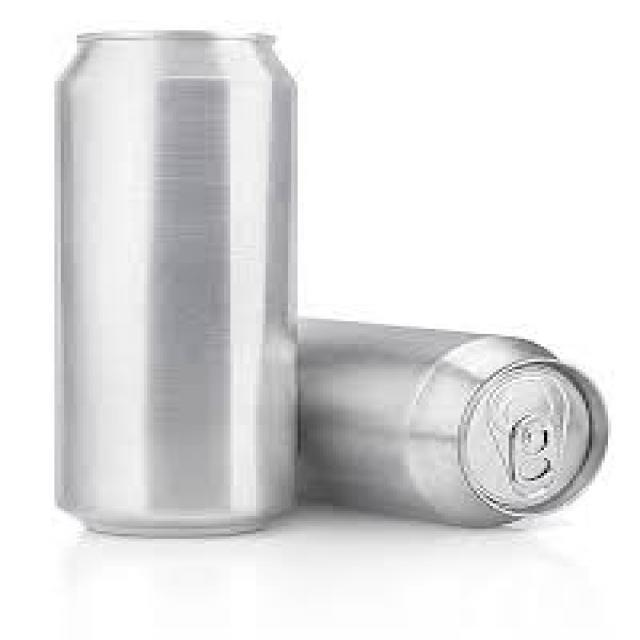metal-can: (51, 28, 301, 534), (294, 314, 612, 526)
